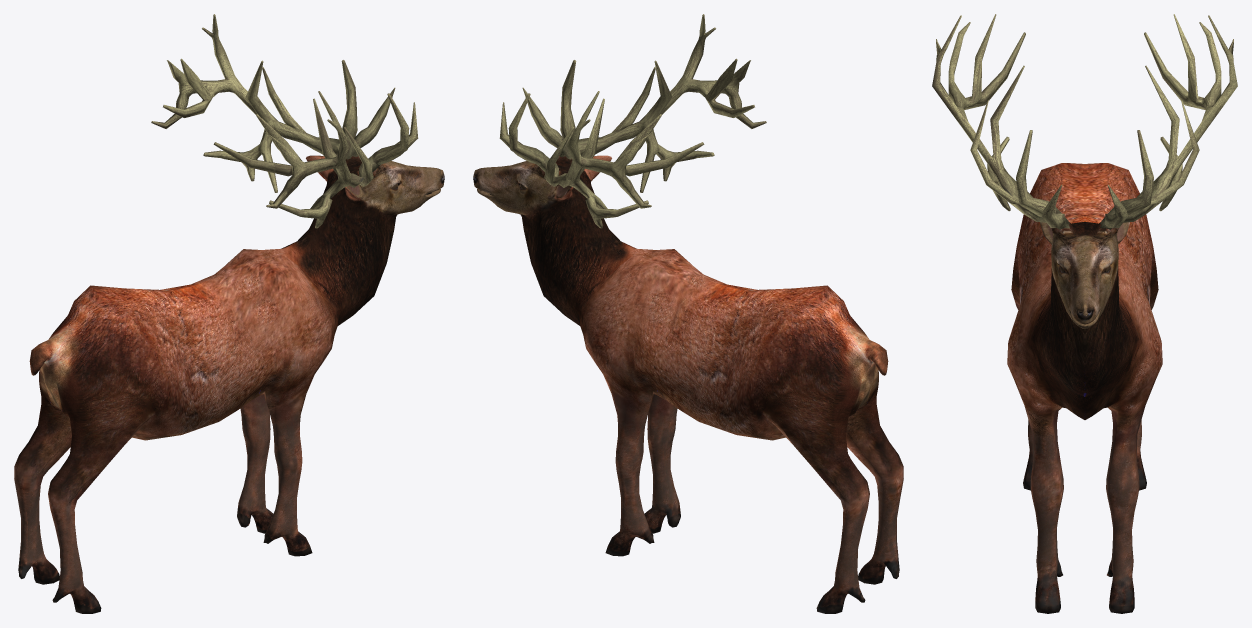
Rendered from stag.gltf.
The picture shows the model from 3 angles, left to right: view 1: azimuth 30°, elevation 25°; view 2: azimuth 150°, elevation 25°; view 3: azimuth 270°, elevation 25°; orthographic projection. The views are drawn at different scales.
Parts seen in each view (by area): view 1: Body, Horns, Head; view 2: Body, Horns, Head; view 3: Body, Horns, Head.
Part boxes in pixels (<box>): Body: <box>14,203,397,613</box>; Horns: <box>151,14,418,228</box>; Head: <box>306,155,444,226</box>; Body: <box>520,203,903,613</box>; Horns: <box>499,14,766,228</box>; Head: <box>473,155,611,226</box>; Body: <box>1007,163,1162,613</box>; Horns: <box>932,14,1237,229</box>; Head: <box>1040,221,1129,328</box>.
Bounding box in the file's own units: 1.25 × 1.43 × 0.6781.
4 materials, 3 textured.
